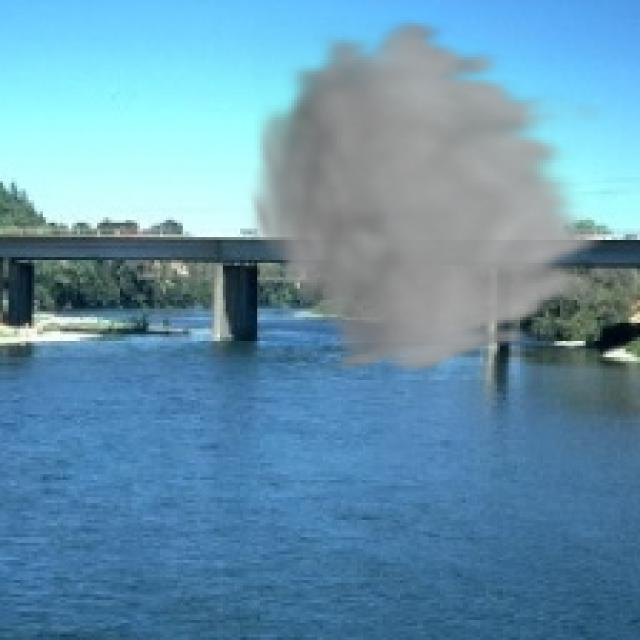Smoke: (242, 14, 618, 377)
